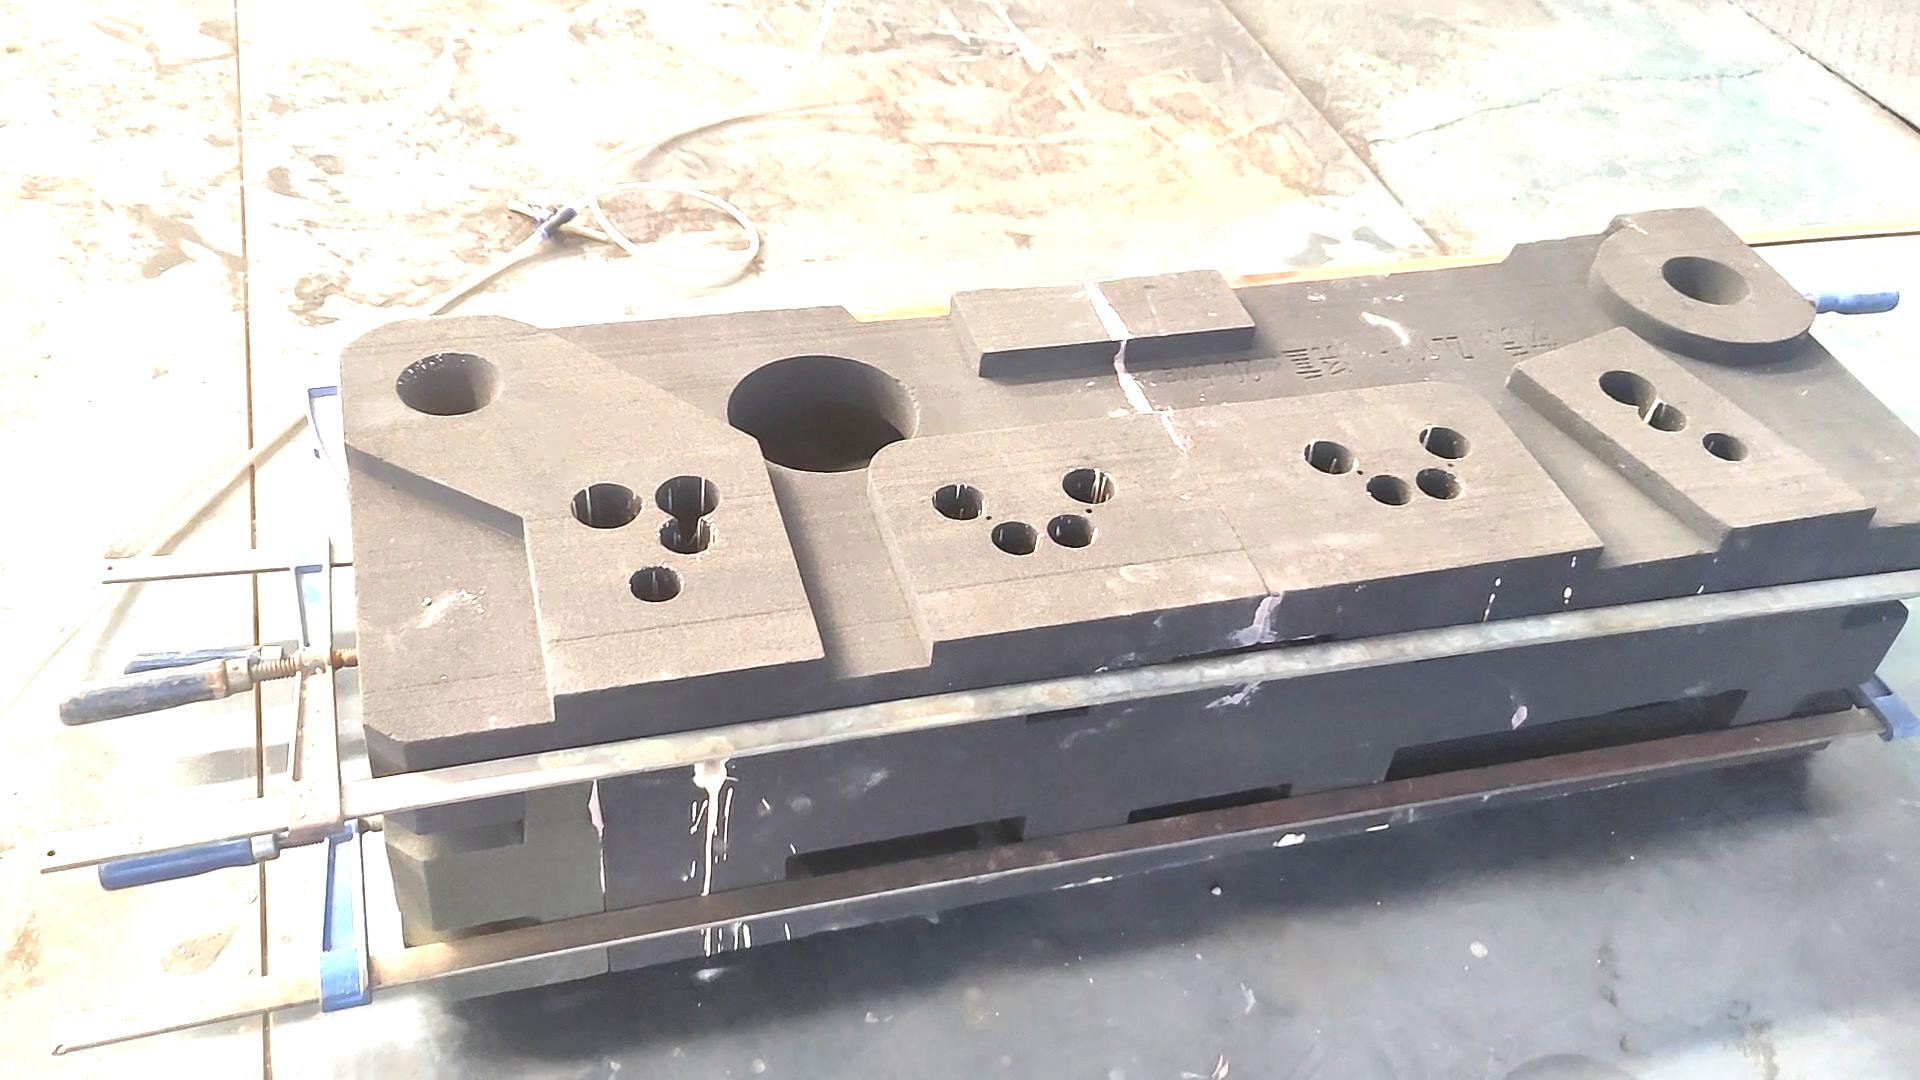pouring hole: (396, 352, 506, 415), (1659, 256, 1751, 305)
